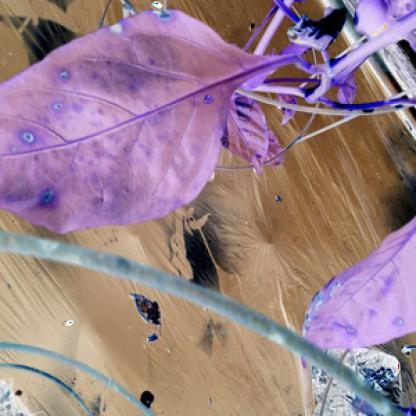bell pepper leaf spot: (1, 8, 261, 232), (298, 216, 413, 367)
